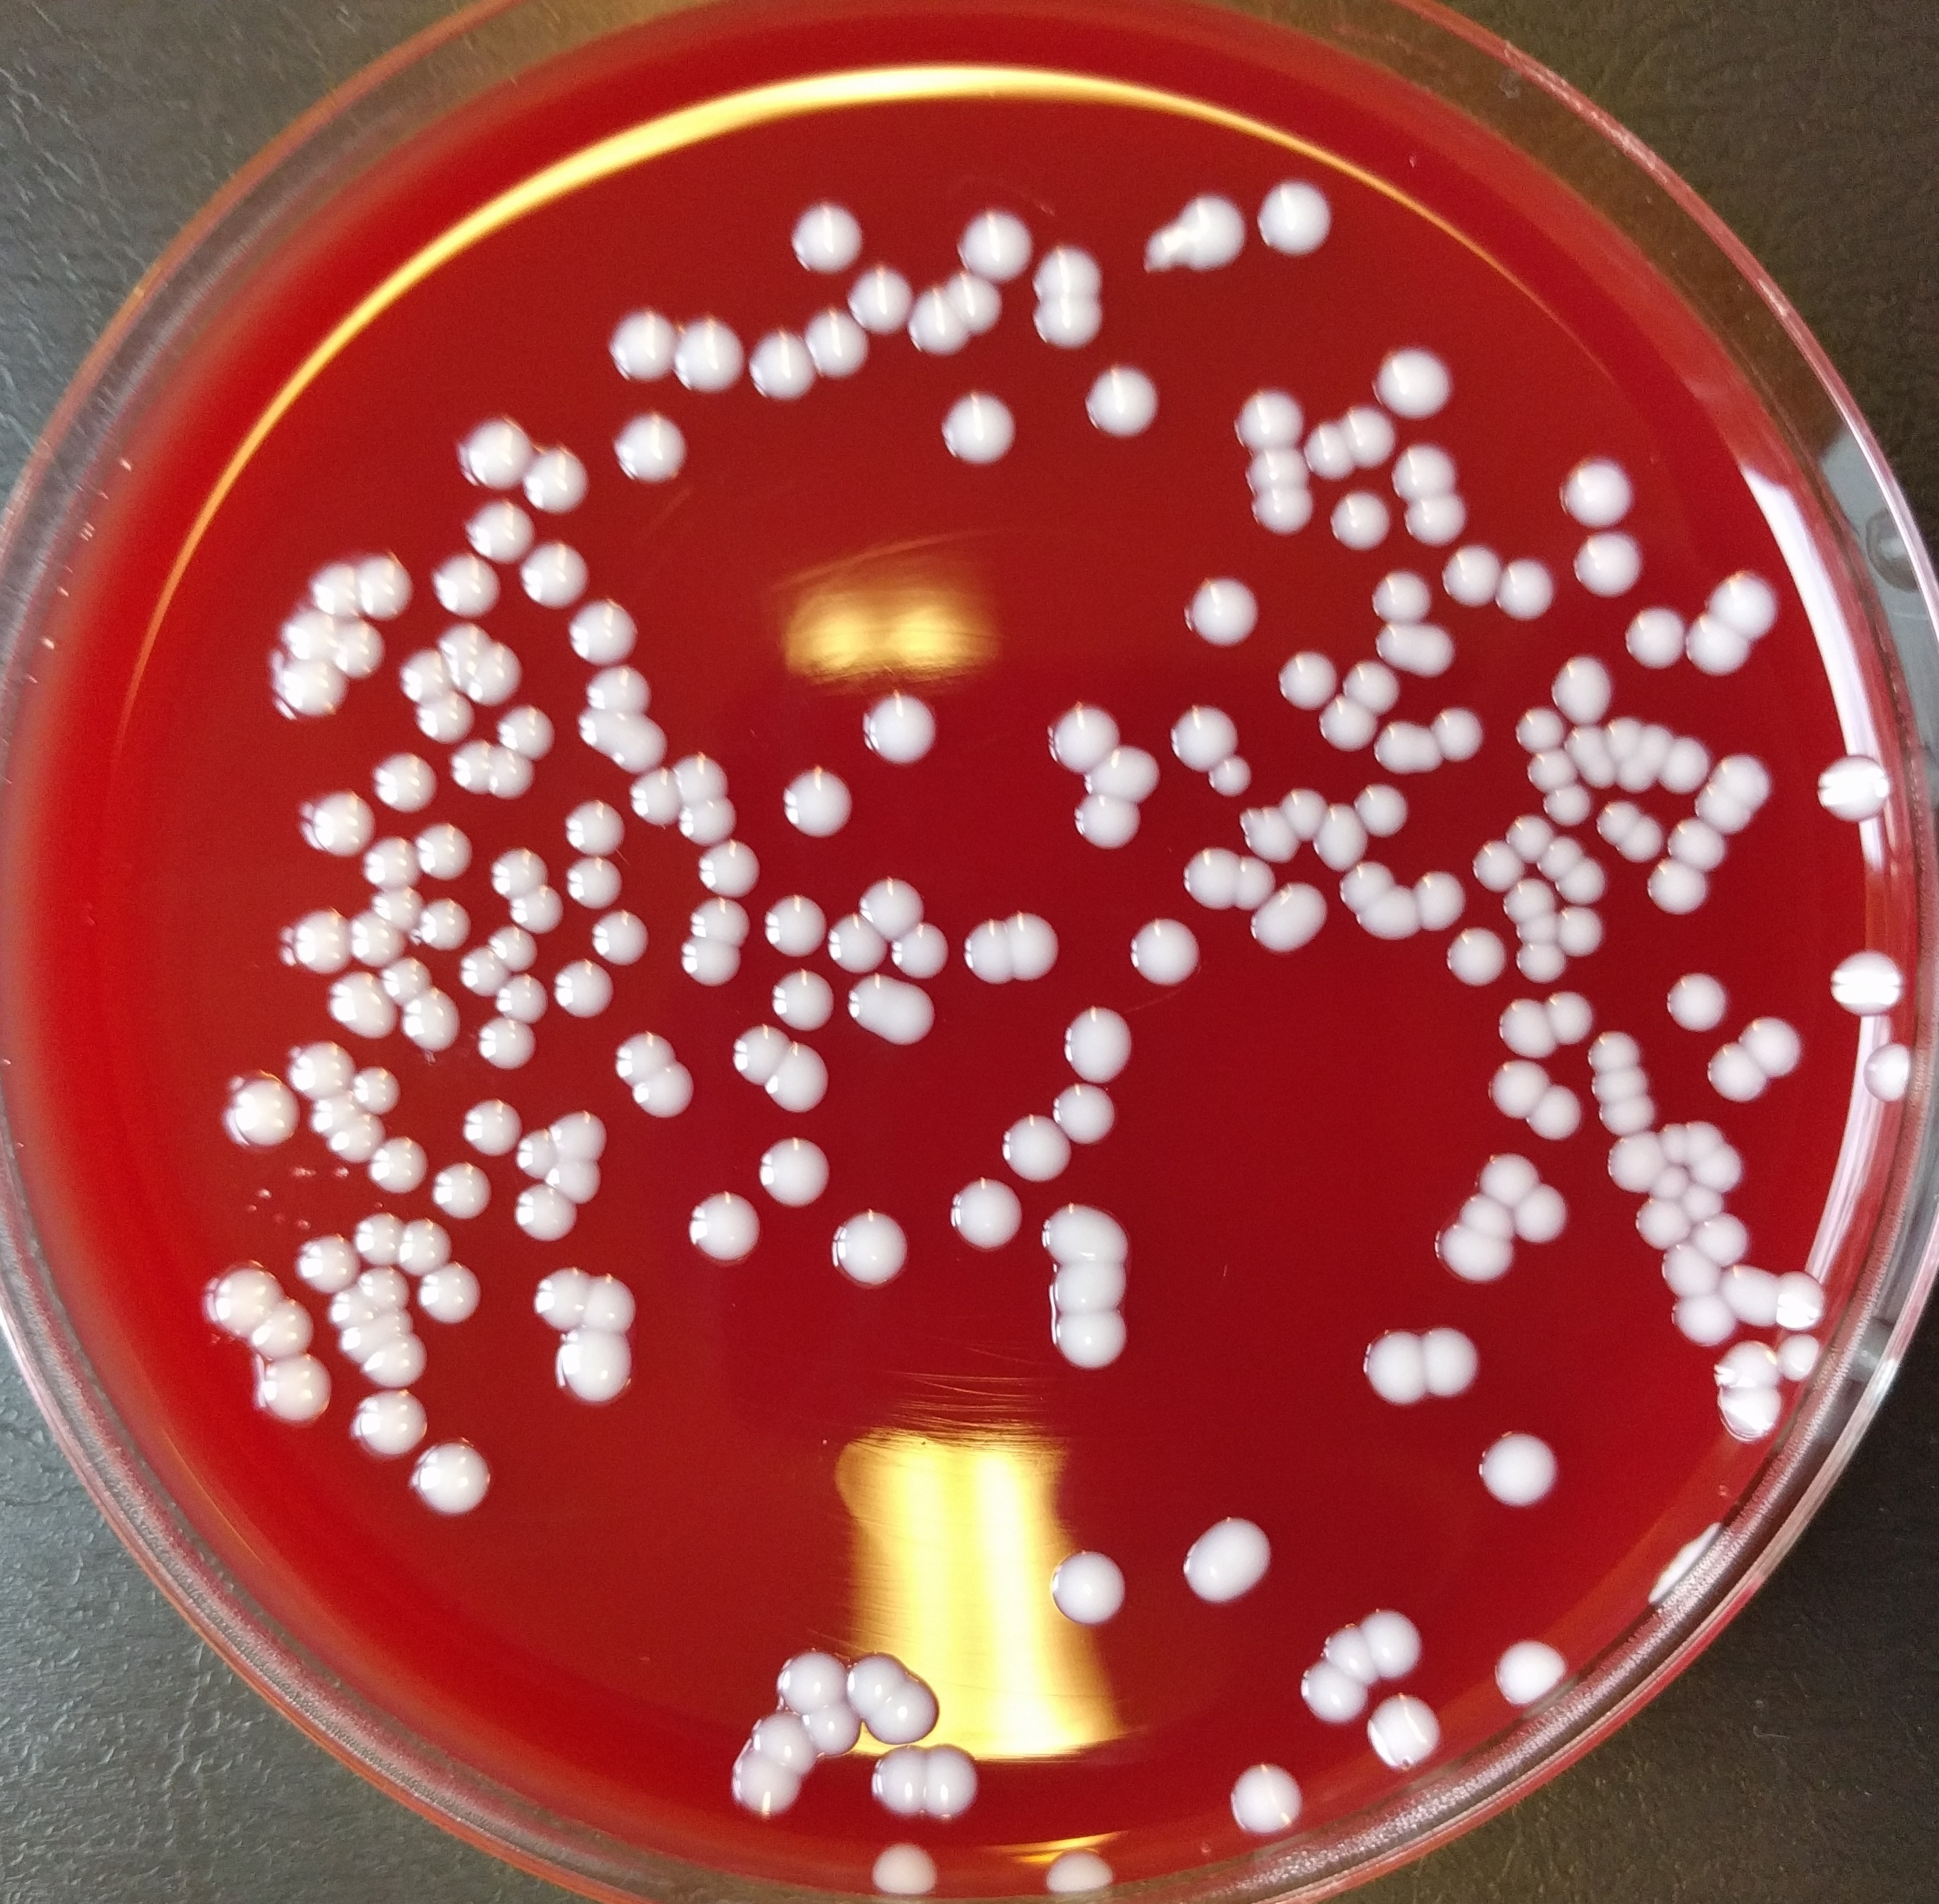sp22: (1139, 190, 1250, 279), (1180, 1512, 1275, 1611), (1472, 1431, 1564, 1522), (1371, 342, 1466, 422), (406, 1437, 493, 1524), (846, 975, 940, 1053), (237, 1355, 337, 1428), (220, 1072, 300, 1163), (1700, 567, 1786, 645), (1259, 176, 1336, 263), (1051, 1545, 1126, 1634), (551, 1332, 635, 1411), (938, 391, 1017, 473), (1079, 359, 1156, 443), (1125, 912, 1203, 992), (786, 199, 868, 275), (1247, 881, 1329, 957), (1817, 746, 1890, 832), (1038, 1201, 1139, 1262), (956, 206, 1034, 284), (835, 1210, 912, 1290), (453, 415, 528, 497), (861, 690, 938, 769), (1829, 947, 1906, 1025), (270, 649, 350, 724), (1067, 1004, 1140, 1086), (605, 303, 671, 392), (691, 1191, 767, 1268), (208, 1259, 284, 1336), (1184, 574, 1259, 652), (997, 1109, 1076, 1184), (945, 1175, 1020, 1254), (1367, 1693, 1442, 1771), (781, 764, 853, 846), (574, 708, 668, 769), (677, 310, 743, 396), (1709, 1388, 1787, 1459), (1048, 697, 1118, 778), (1487, 1641, 1571, 1707), (759, 1135, 832, 1210), (1568, 530, 1644, 600), (752, 326, 816, 408), (1367, 1323, 1423, 1418), (901, 289, 973, 363), (302, 788, 377, 858), (732, 1744, 802, 1819), (811, 303, 877, 382), (1006, 908, 1064, 997), (568, 596, 638, 670), (617, 410, 687, 483), (328, 973, 401, 1043), (1433, 1226, 1517, 1287), (1294, 1658, 1369, 1726), (1564, 455, 1639, 523), (1425, 1323, 1491, 1400), (1170, 703, 1240, 774), (1231, 1763, 1304, 1831), (349, 1390, 424, 1456), (457, 497, 535, 560), (849, 260, 910, 340), (516, 541, 588, 609), (432, 553, 500, 624), (281, 908, 347, 982), (865, 1676, 938, 1742), (1360, 1602, 1425, 1677), (1498, 994, 1562, 1069), (1374, 619, 1458, 677), (234, 1299, 319, 1355), (774, 1646, 844, 1714), (1235, 382, 1303, 452), (1329, 486, 1397, 556), (1688, 610, 1752, 682), (771, 1041, 833, 1114), (1644, 858, 1718, 921), (1078, 745, 1161, 799), (1541, 987, 1599, 1065), (856, 874, 924, 940), (1440, 924, 1507, 992), (872, 1838, 942, 1902), (771, 968, 835, 1037), (1547, 656, 1611, 725), (1050, 1085, 1121, 1147), (872, 1745, 931, 1820), (1311, 797, 1371, 872), (1053, 1315, 1130, 1372), (337, 1313, 413, 1370), (1663, 816, 1733, 879), (1627, 605, 1688, 677), (1496, 556, 1555, 629), (1465, 1149, 1545, 1203), (361, 1336, 436, 1393), (764, 896, 830, 961), (288, 1037, 352, 1104), (370, 753, 438, 816), (399, 989, 462, 1057), (1041, 1264, 1132, 1311), (750, 1707, 818, 1770), (1247, 483, 1315, 546), (422, 1259, 483, 1329), (558, 799, 629, 858), (1072, 797, 1144, 856), (523, 443, 586, 509), (1376, 713, 1442, 776), (731, 1022, 792, 1090), (1484, 1060, 1552, 1121), (530, 1264, 589, 1334), (1861, 1039, 1920, 1109), (1700, 1044, 1770, 1104), (849, 1649, 912, 1714), (1510, 1182, 1573, 1247), (1442, 542, 1503, 609), (1371, 567, 1439, 626), (929, 1742, 978, 1824), (1043, 1843, 1116, 1897), (1466, 837, 1527, 901), (1667, 969, 1726, 1036), (1390, 439, 1456, 499), (1032, 296, 1107, 349), (1032, 242, 1102, 298), (473, 643, 528, 713), (691, 840, 760, 896), (966, 917, 1011, 1003), (1740, 1013, 1803, 1074), (1355, 884, 1418, 945), (1235, 800, 1297, 861), (514, 1186, 582, 1241), (1608, 1135, 1663, 1203), (886, 919, 950, 976), (1402, 493, 1475, 544), (495, 708, 561, 764), (1182, 846, 1238, 912), (1627, 1198, 1693, 1254), (1416, 868, 1470, 936), (460, 1097, 520, 1158), (1318, 1623, 1379, 1683), (1657, 1238, 1718, 1297), (1688, 1210, 1749, 1269), (678, 935, 741, 992), (588, 914, 652, 969), (1721, 1262, 1777, 1327), (410, 692, 478, 745), (828, 905, 881, 973), (582, 661, 657, 708), (417, 825, 478, 882), (429, 1163, 493, 1217), (1339, 659, 1404, 713), (1343, 403, 1395, 469), (1435, 699, 1482, 772), (349, 912, 408, 969), (434, 628, 490, 689), (560, 860, 629, 908), (553, 964, 616, 1018), (1269, 654, 1332, 708), (610, 1029, 673, 1083), (1456, 1191, 1519, 1245), (1304, 420, 1358, 483), (1712, 1341, 1786, 1386), (398, 1219, 455, 1276), (481, 1018, 541, 1074), (300, 1234, 359, 1290), (956, 274, 1006, 338), (359, 556, 410, 621), (1779, 1266, 1827, 1332), (1663, 732, 1712, 799), (1527, 1083, 1583, 1140), (509, 882, 568, 936), (626, 769, 680, 828), (370, 1135, 429, 1189), (591, 1266, 638, 1334), (671, 753, 732, 806), (279, 607, 342, 657), (488, 846, 551, 896), (628, 1067, 694, 1114), (1669, 1299, 1735, 1346), (361, 832, 415, 889), (493, 973, 551, 1027), (1350, 783, 1412, 832), (1698, 788, 1761, 837), (802, 1707, 858, 1761), (1320, 697, 1374, 753), (399, 647, 452, 704), (417, 896, 469, 954), (1712, 751, 1772, 802), (685, 900, 753, 943), (551, 1109, 607, 1161), (677, 804, 738, 851), (1238, 849, 1280, 917), (1583, 1027, 1646, 1072), (354, 1210, 398, 1275), (312, 556, 359, 615), (340, 622, 387, 682), (1334, 861, 1393, 908), (1690, 1146, 1742, 1198), (333, 1112, 384, 1166), (492, 748, 539, 806), (1555, 854, 1608, 905), (460, 949, 509, 1003), (1501, 875, 1557, 922), (1238, 450, 1313, 485), (488, 922, 541, 971), (544, 1159, 609, 1198), (1503, 811, 1552, 861), (1613, 816, 1663, 865), (380, 954, 436, 997), (1517, 943, 1573, 987), (1536, 785, 1592, 828), (452, 738, 493, 795), (518, 1126, 560, 1184), (1561, 908, 1606, 961), (1512, 704, 1564, 750), (1679, 1186, 1733, 1229), (1282, 785, 1323, 840), (354, 1065, 401, 1114), (324, 1283, 375, 1329), (368, 886, 420, 926), (1777, 1332, 1822, 1377), (1534, 832, 1580, 877), (1686, 1119, 1726, 1170), (1592, 1098, 1657, 1130), (1587, 1065, 1644, 1100), (366, 1266, 410, 1311), (1595, 713, 1639, 758), (309, 1098, 357, 1139), (1524, 753, 1576, 790), (1599, 800, 1644, 842), (1510, 912, 1566, 945), (1208, 758, 1252, 797), (1634, 725, 1672, 764), (1648, 1166, 1690, 1201), (1616, 760, 1658, 793), (1580, 755, 1613, 792), (1573, 725, 1609, 755), (1665, 1119, 1688, 1166)
